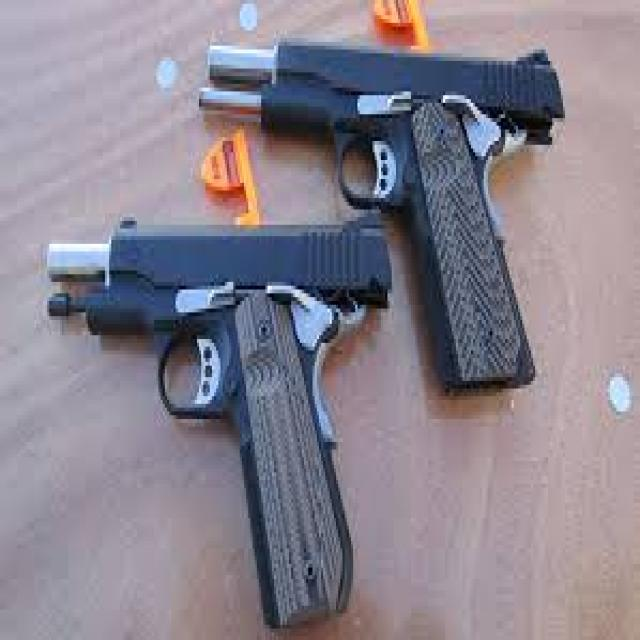Gun: (32, 167, 405, 640), (204, 15, 556, 398)
